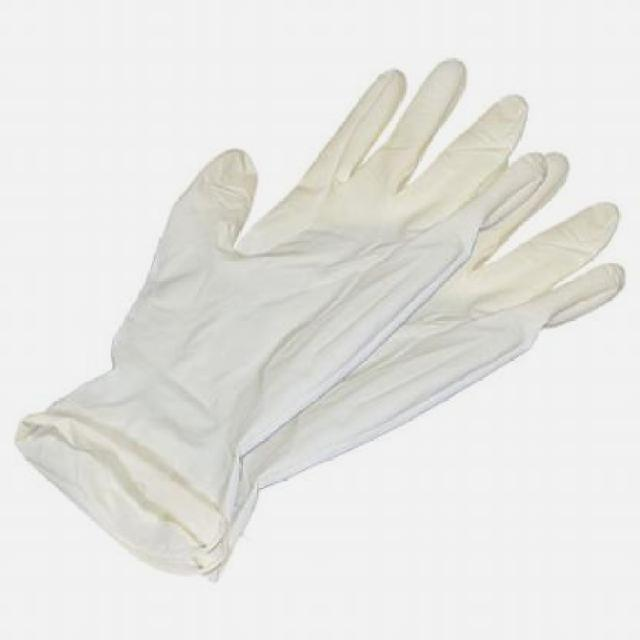glove: (12, 57, 623, 578)
